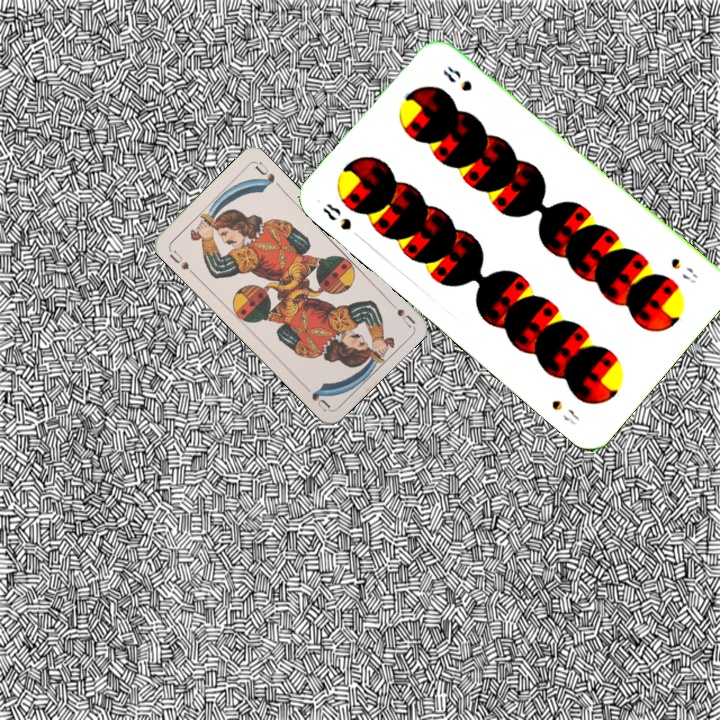S8: (319, 199, 355, 233), (667, 254, 700, 287)
SU: (383, 295, 417, 329), (165, 246, 197, 277)
